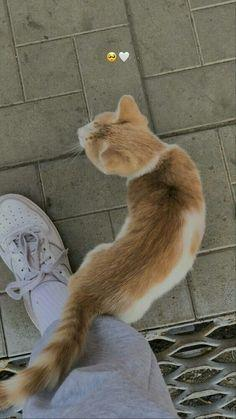kedo: (6, 92, 205, 409)
